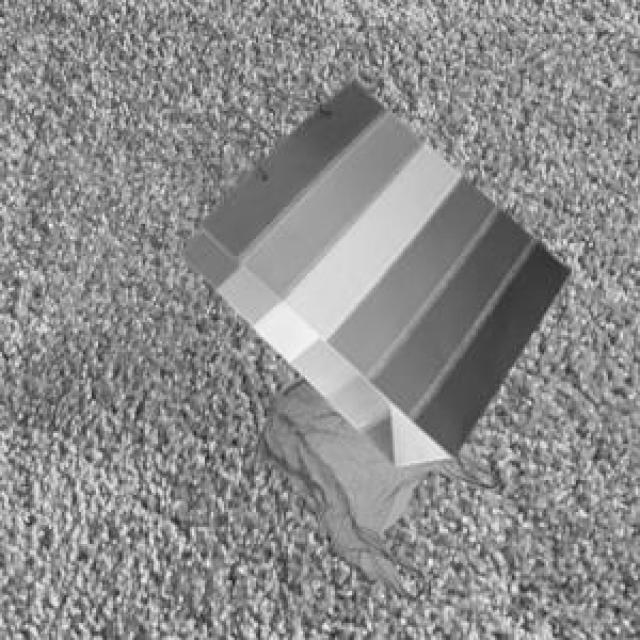paper: (175, 77, 568, 463)
